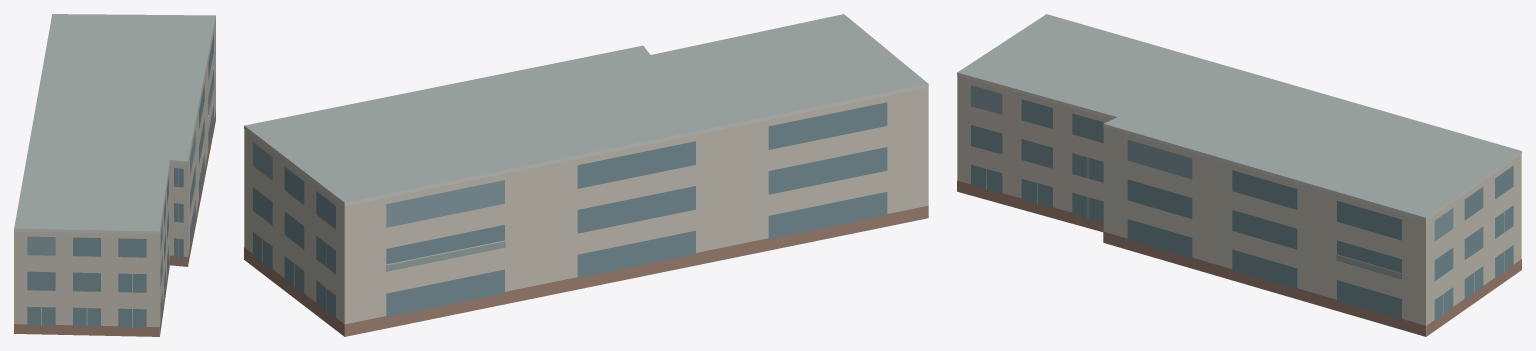
The model's file is survey-upis-32891197.glb.
3 views of the same model, side by side, from view 1: azimuth 30°, elevation 25°; view 2: azimuth 150°, elevation 25°; view 3: azimuth 270°, elevation 25° (orthographic). The views are drawn at different scales.
Visible parts, largest first — view 1: survey-upis-32891197.tmp; view 2: survey-upis-32891197.tmp; view 3: survey-upis-32891197.tmp.
Boxes of the visible parts, x1,y1,x2,y2 form: survey-upis-32891197.tmp: [14, 14, 215, 336]; survey-upis-32891197.tmp: [244, 14, 928, 336]; survey-upis-32891197.tmp: [957, 14, 1521, 336].
Bounding box in the file's own units: 33.59 × 9.15 × 39.32.
